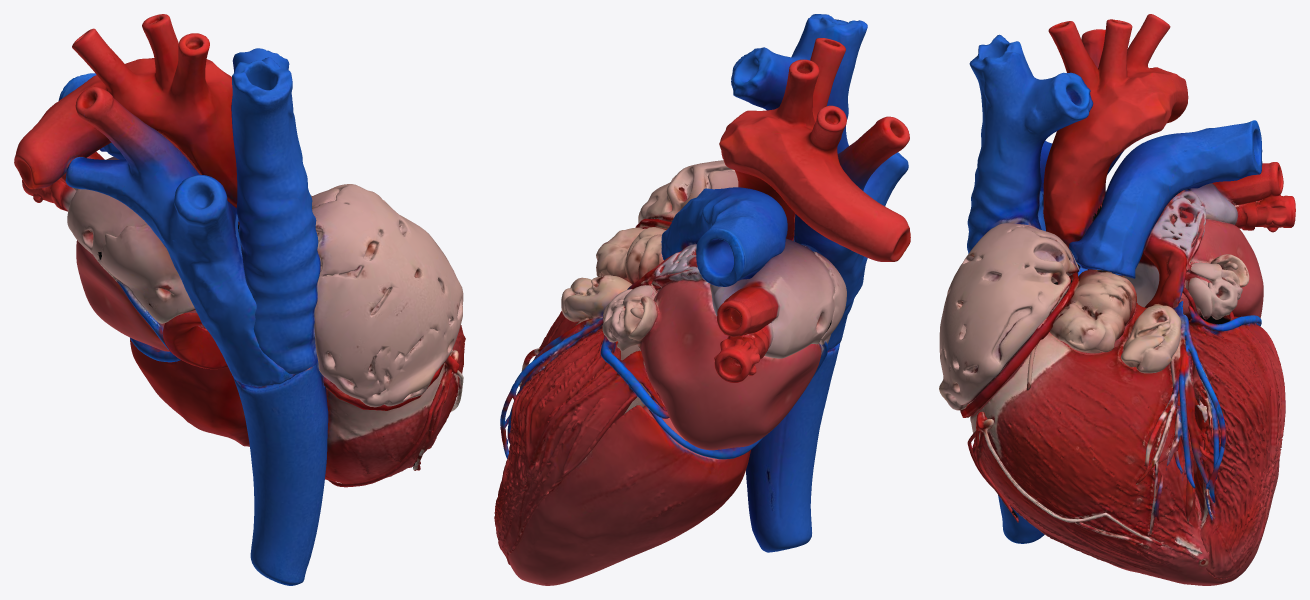
Rendered from heart.glb.
3 renders of one model, left to right at view 1: azimuth 30°, elevation 25°; view 2: azimuth 150°, elevation 25°; view 3: azimuth 270°, elevation 25°, orthographic. The views are drawn at different scales.
Parts seen in each view (by area): view 1: tripo_part_7, tripo_part_4, tripo_part_5, tripo_part_1, tripo_part_8, tripo_part_0, tripo_part_13, tripo_part_2, tripo_part_11, tripo_part_10, tripo_part_12, tripo_part_16; view 2: tripo_part_0, tripo_part_2, tripo_part_1, tripo_part_3, tripo_part_8, tripo_part_11, tripo_part_9, tripo_part_4, tripo_part_5, tripo_part_6, tripo_part_7, tripo_part_14 (+3 smaller); view 3: tripo_part_0, tripo_part_3, tripo_part_1, tripo_part_7, tripo_part_5, tripo_part_9, tripo_part_2, tripo_part_6, tripo_part_14, tripo_part_11, tripo_part_10, tripo_part_16 (+3 smaller).
Boxes of the visible parts, left/top/right/bottom form: tripo_part_7: left=311, top=184, right=463, bottom=407; tripo_part_4: left=65, top=86, right=295, bottom=386; tripo_part_5: left=231, top=48, right=320, bottom=374; tripo_part_1: left=14, top=14, right=239, bottom=231; tripo_part_8: left=233, top=360, right=328, bottom=585; tripo_part_0: left=130, top=325, right=465, bottom=483; tripo_part_13: left=97, top=223, right=195, bottom=349; tripo_part_2: left=76, top=240, right=205, bottom=351; tripo_part_11: left=59, top=151, right=146, bottom=260; tripo_part_10: left=328, top=350, right=463, bottom=487; tripo_part_12: left=22, top=179, right=75, bottom=211; tripo_part_16: left=323, top=362, right=444, bottom=410; tripo_part_0: left=508, top=311, right=750, bottom=585; tripo_part_2: left=602, top=244, right=821, bottom=450; tripo_part_1: left=719, top=38, right=910, bottom=261; tripo_part_3: left=494, top=328, right=669, bottom=564; tripo_part_8: left=746, top=343, right=839, bottom=552; tripo_part_11: left=710, top=238, right=835, bottom=358; tripo_part_9: left=661, top=187, right=787, bottom=286; tripo_part_4: left=793, top=116, right=909, bottom=349; tripo_part_5: left=731, top=14, right=867, bottom=153; tripo_part_6: left=500, top=275, right=632, bottom=458; tripo_part_7: left=638, top=160, right=738, bottom=223; tripo_part_14: left=596, top=227, right=666, bottom=284; tripo_part_0: left=970, top=303, right=1279, bottom=585; tripo_part_3: left=1183, top=287, right=1285, bottom=578; tripo_part_1: left=1043, top=14, right=1188, bottom=247; tripo_part_7: left=939, top=223, right=1079, bottom=410; tripo_part_5: left=967, top=34, right=1093, bottom=296; tripo_part_9: left=1069, top=120, right=1262, bottom=278; tripo_part_2: left=1124, top=190, right=1263, bottom=324; tripo_part_6: left=1121, top=301, right=1226, bottom=534; tripo_part_14: left=1026, top=270, right=1136, bottom=390; tripo_part_11: left=1105, top=162, right=1283, bottom=224; tripo_part_10: left=967, top=411, right=1161, bottom=546; tripo_part_16: left=960, top=272, right=1079, bottom=417.
Size of the model in its own units: 0.6472 by 0.8652 by 0.575.
Materials: 20 (20 with a texture image).
